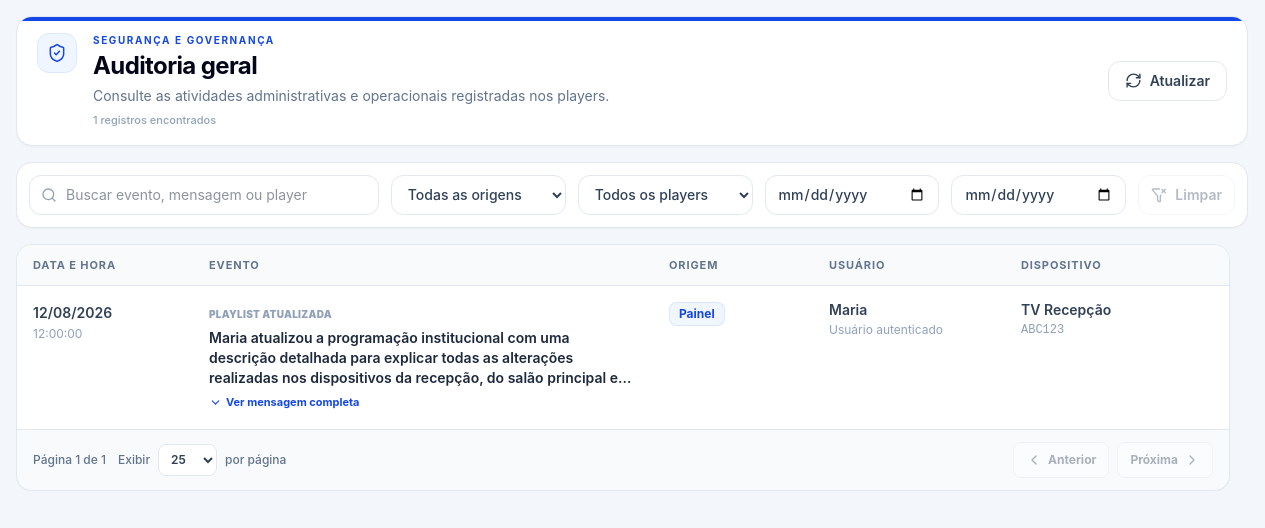
Test: AuditLogs › mantém mensagens longas compactas e permite expandir
Click the button "Ver mensagem completa": (284, 402) [209,394,360,410]
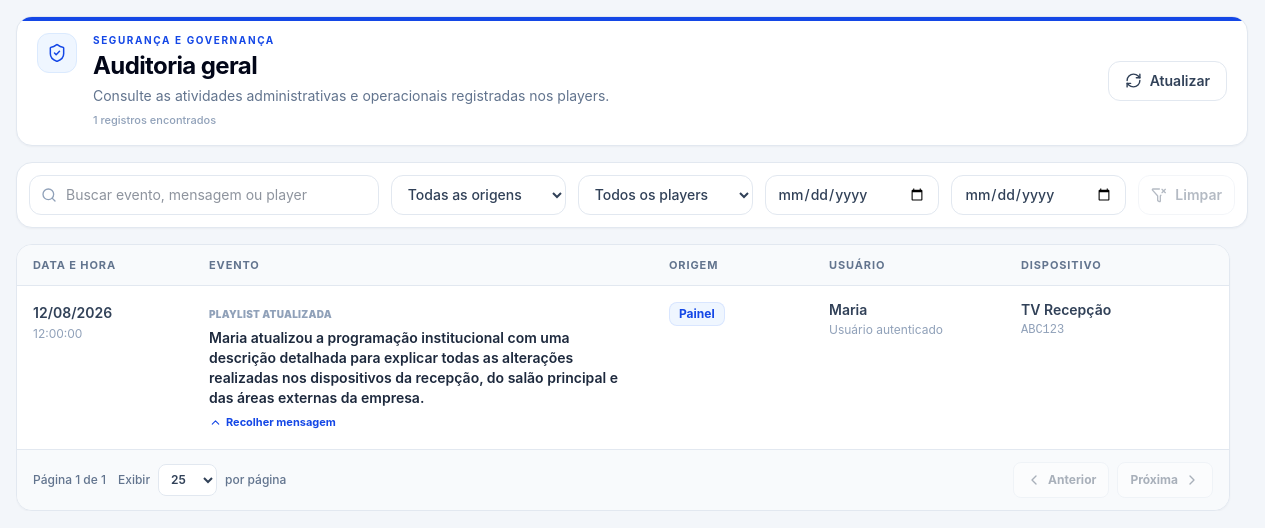
expect the button "Recolher mensagem" is expanded: met, box [209,414,336,430]
